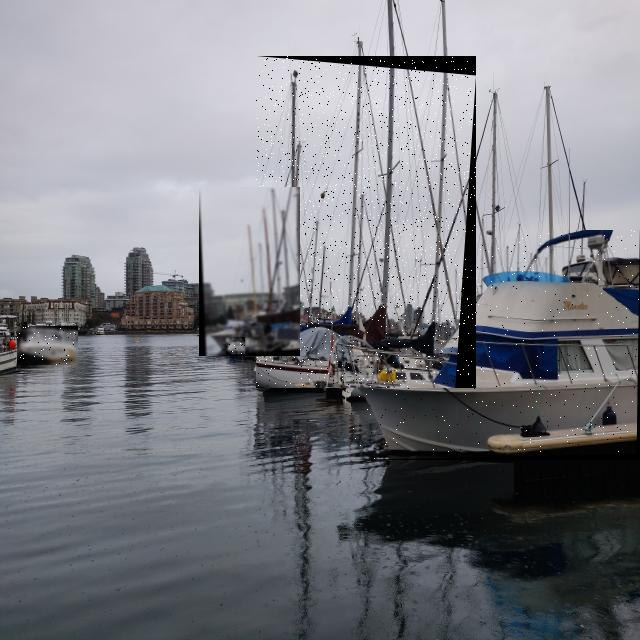boat: (256, 56, 476, 388), (351, 230, 640, 460), (199, 187, 300, 356), (17, 326, 78, 365)
skiff: (226, 337, 245, 354)
